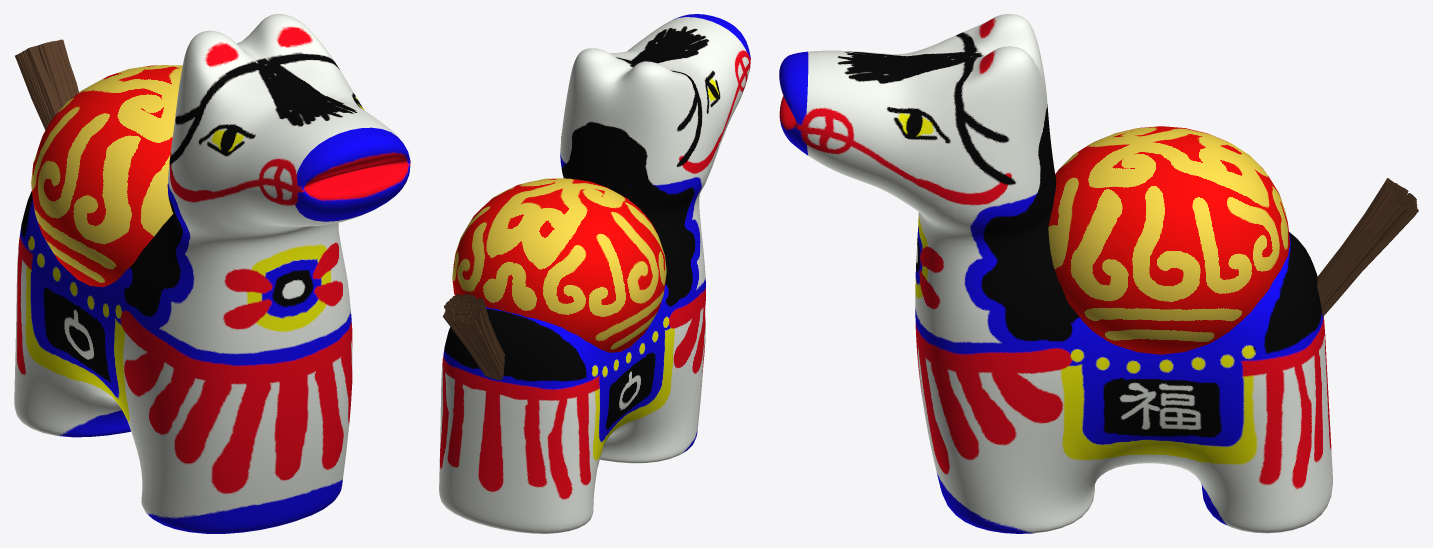
Rendered from eto_uma.glb.
3 views of the same model, side by side, from view 1: azimuth 30°, elevation 25°; view 2: azimuth 150°, elevation 25°; view 3: azimuth 270°, elevation 25° (orthographic). The views are drawn at different scales.
Visible parts, largest first — view 1: 午.001, 飾り_02, メッシュ; view 2: 午.001, 飾り_02, メッシュ; view 3: 午.001, 飾り_02, メッシュ.
Part boxes in pixels (x1=…): 午.001: x1=14, y1=14, x2=410, y2=533; 飾り_02: x1=31, y1=65, x2=182, y2=287; メッシュ: x1=15, y1=39, x2=78, y2=129; 午.001: x1=439, y1=14, x2=750, y2=533; 飾り_02: x1=452, y1=178, x2=666, y2=352; メッシュ: x1=443, y1=294, x2=504, y2=380; 午.001: x1=779, y1=14, x2=1332, y2=533; 飾り_02: x1=1048, y1=126, x2=1289, y2=354; メッシュ: x1=1317, y1=178, x2=1418, y2=316.
Bounding box in the file's own units: 0.3329 × 0.6588 × 0.825.
3 materials, 2 textured.
